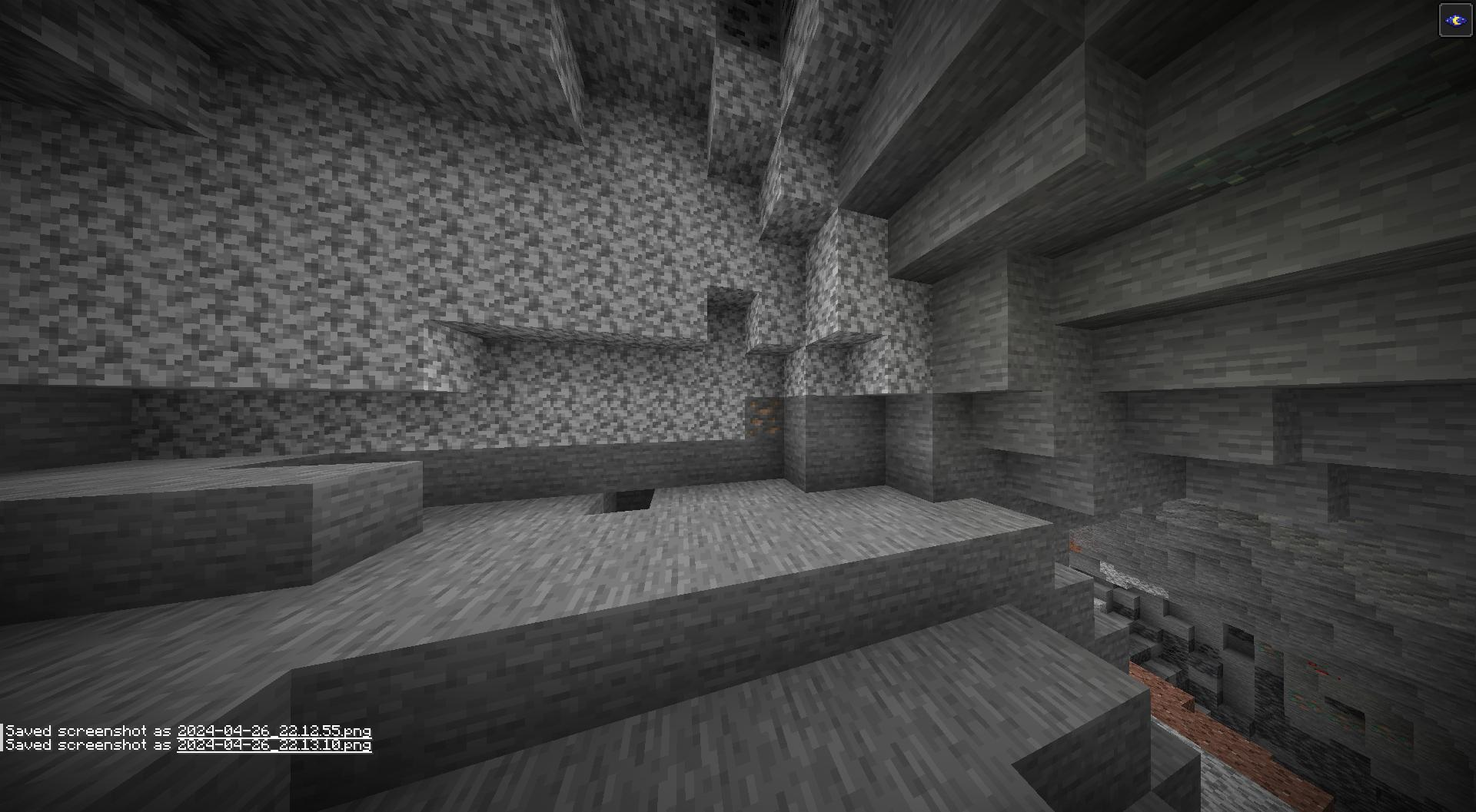iron ore: (739, 393, 784, 438)
